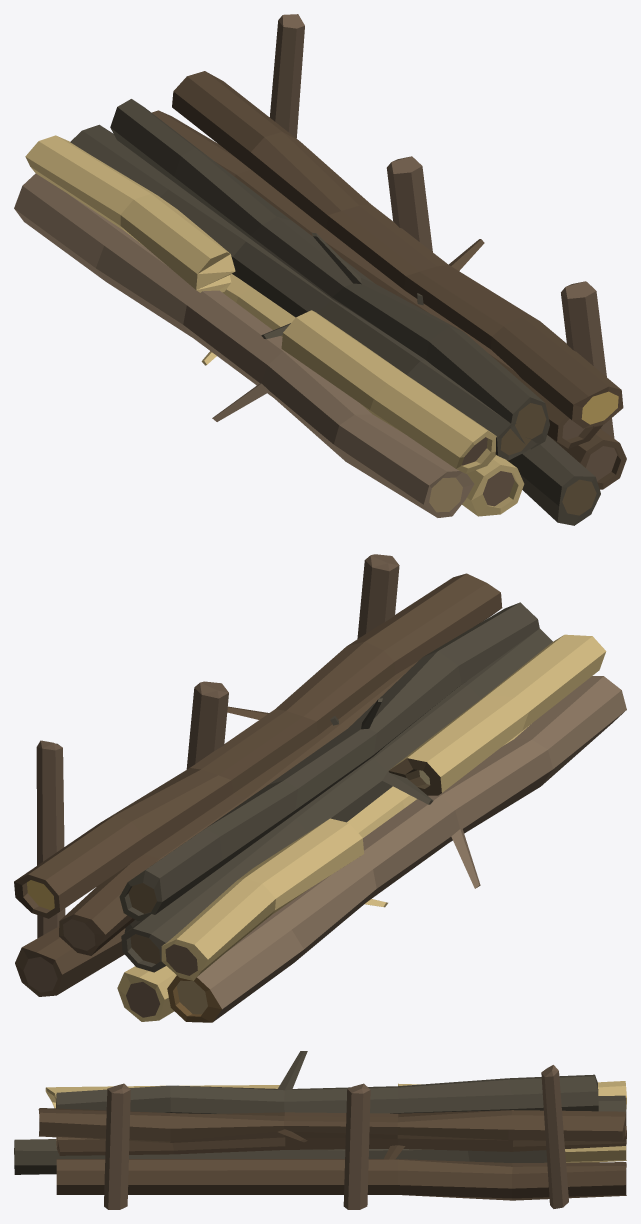
Rendered from EA03_Prop_Forester_CutOutTrees_03.glb.
The picture shows the model from 3 angles, top to bottom: view 1: azimuth 30°, elevation 25°; view 2: azimuth 150°, elevation 25°; view 3: azimuth 270°, elevation 25°; orthographic projection. The views are drawn at different scales.
Visible parts, largest first — view 1: EA03_Prop_Forester_CutOutTrees_03; view 2: EA03_Prop_Forester_CutOutTrees_03; view 3: EA03_Prop_Forester_CutOutTrees_03.
Part boxes in pixels (x1,y1,x2,y2): EA03_Prop_Forester_CutOutTrees_03: (14, 14, 626, 525); EA03_Prop_Forester_CutOutTrees_03: (14, 554, 626, 1022); EA03_Prop_Forester_CutOutTrees_03: (14, 1051, 626, 1209).
Size of the model in its own units: 6.07 by 4.68 by 17.27.
1 material, 1 textured.
